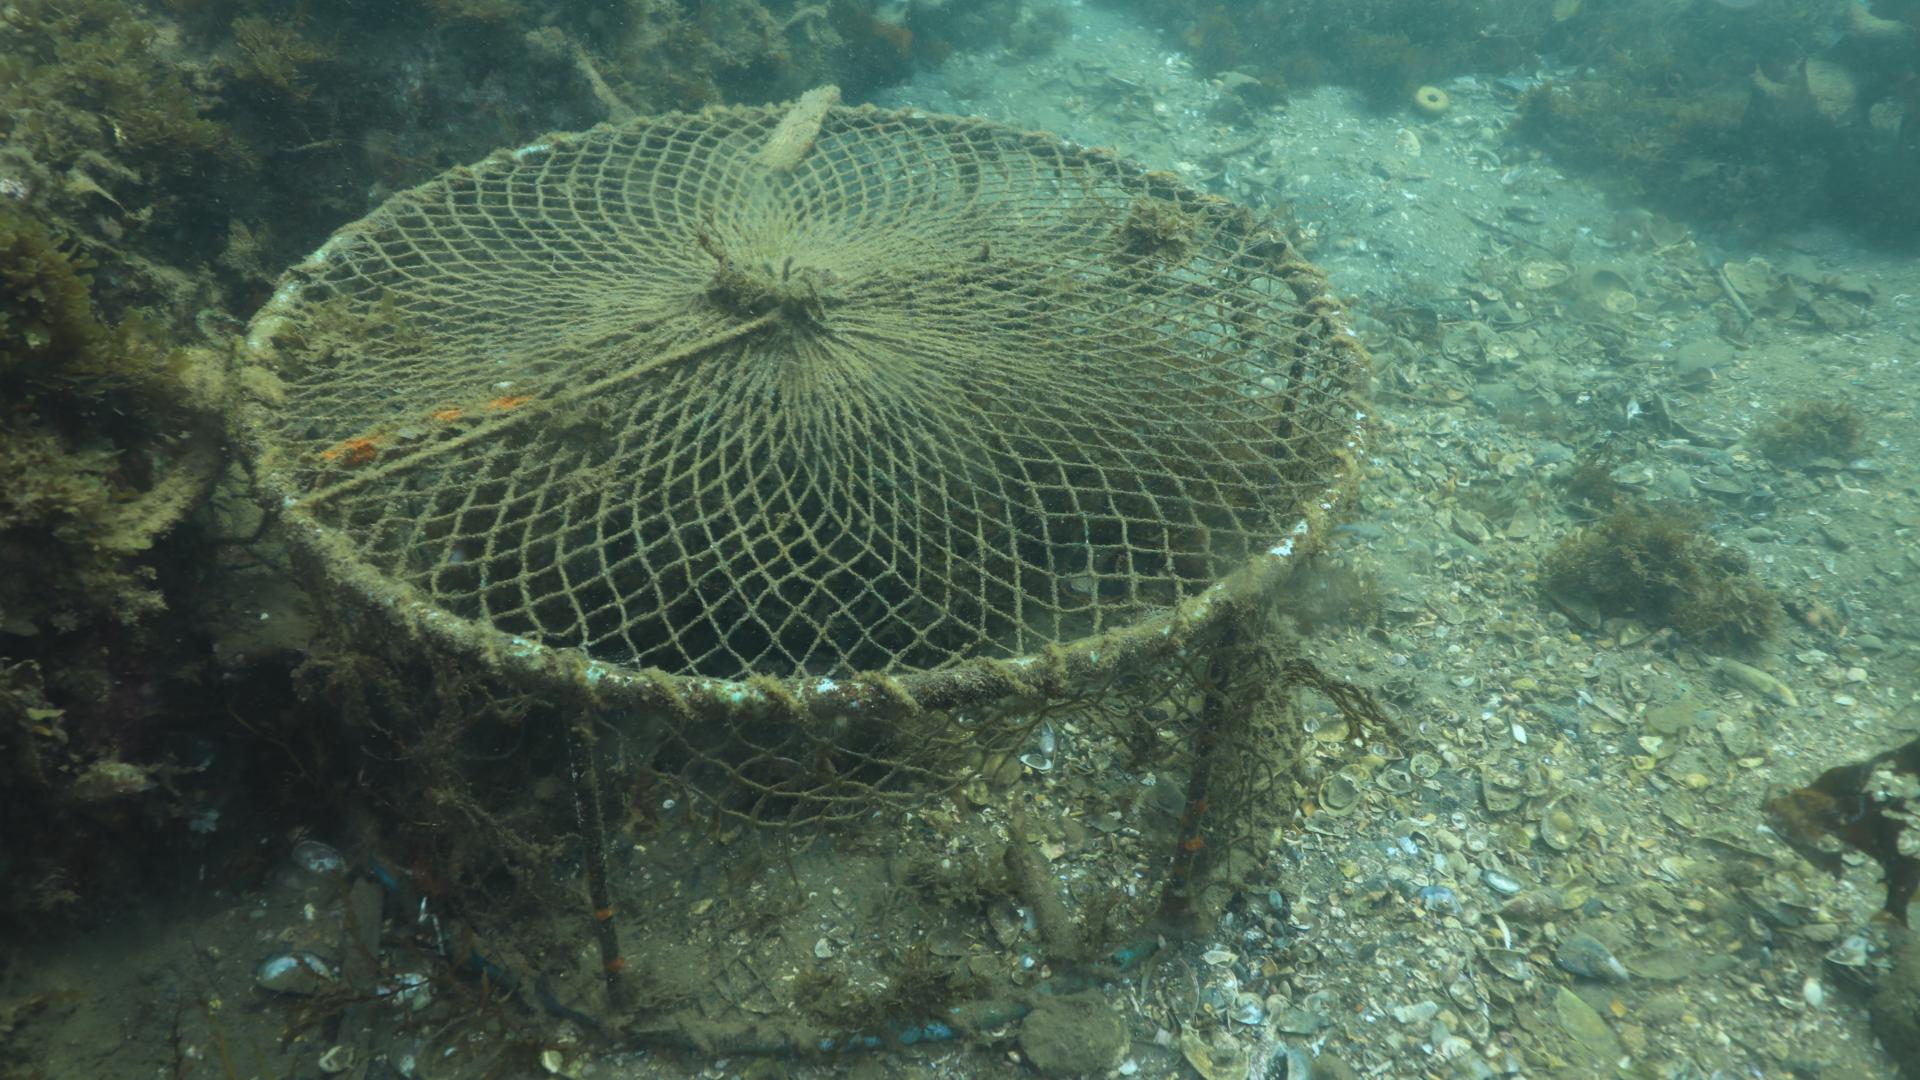circular fish trap: (228, 80, 1367, 1056)
